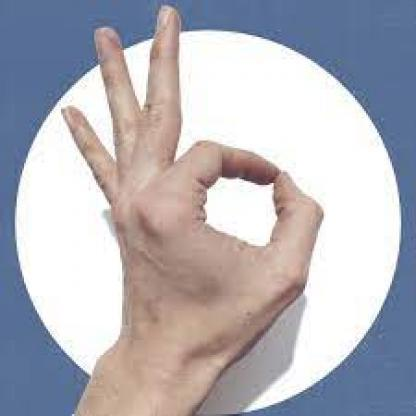ok: (43, 0, 332, 362)
